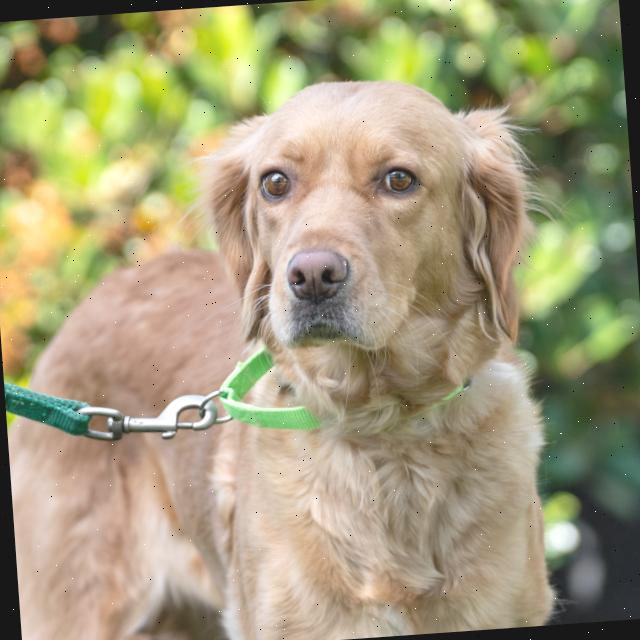golden_retriever_dog: (160, 65, 580, 451)
